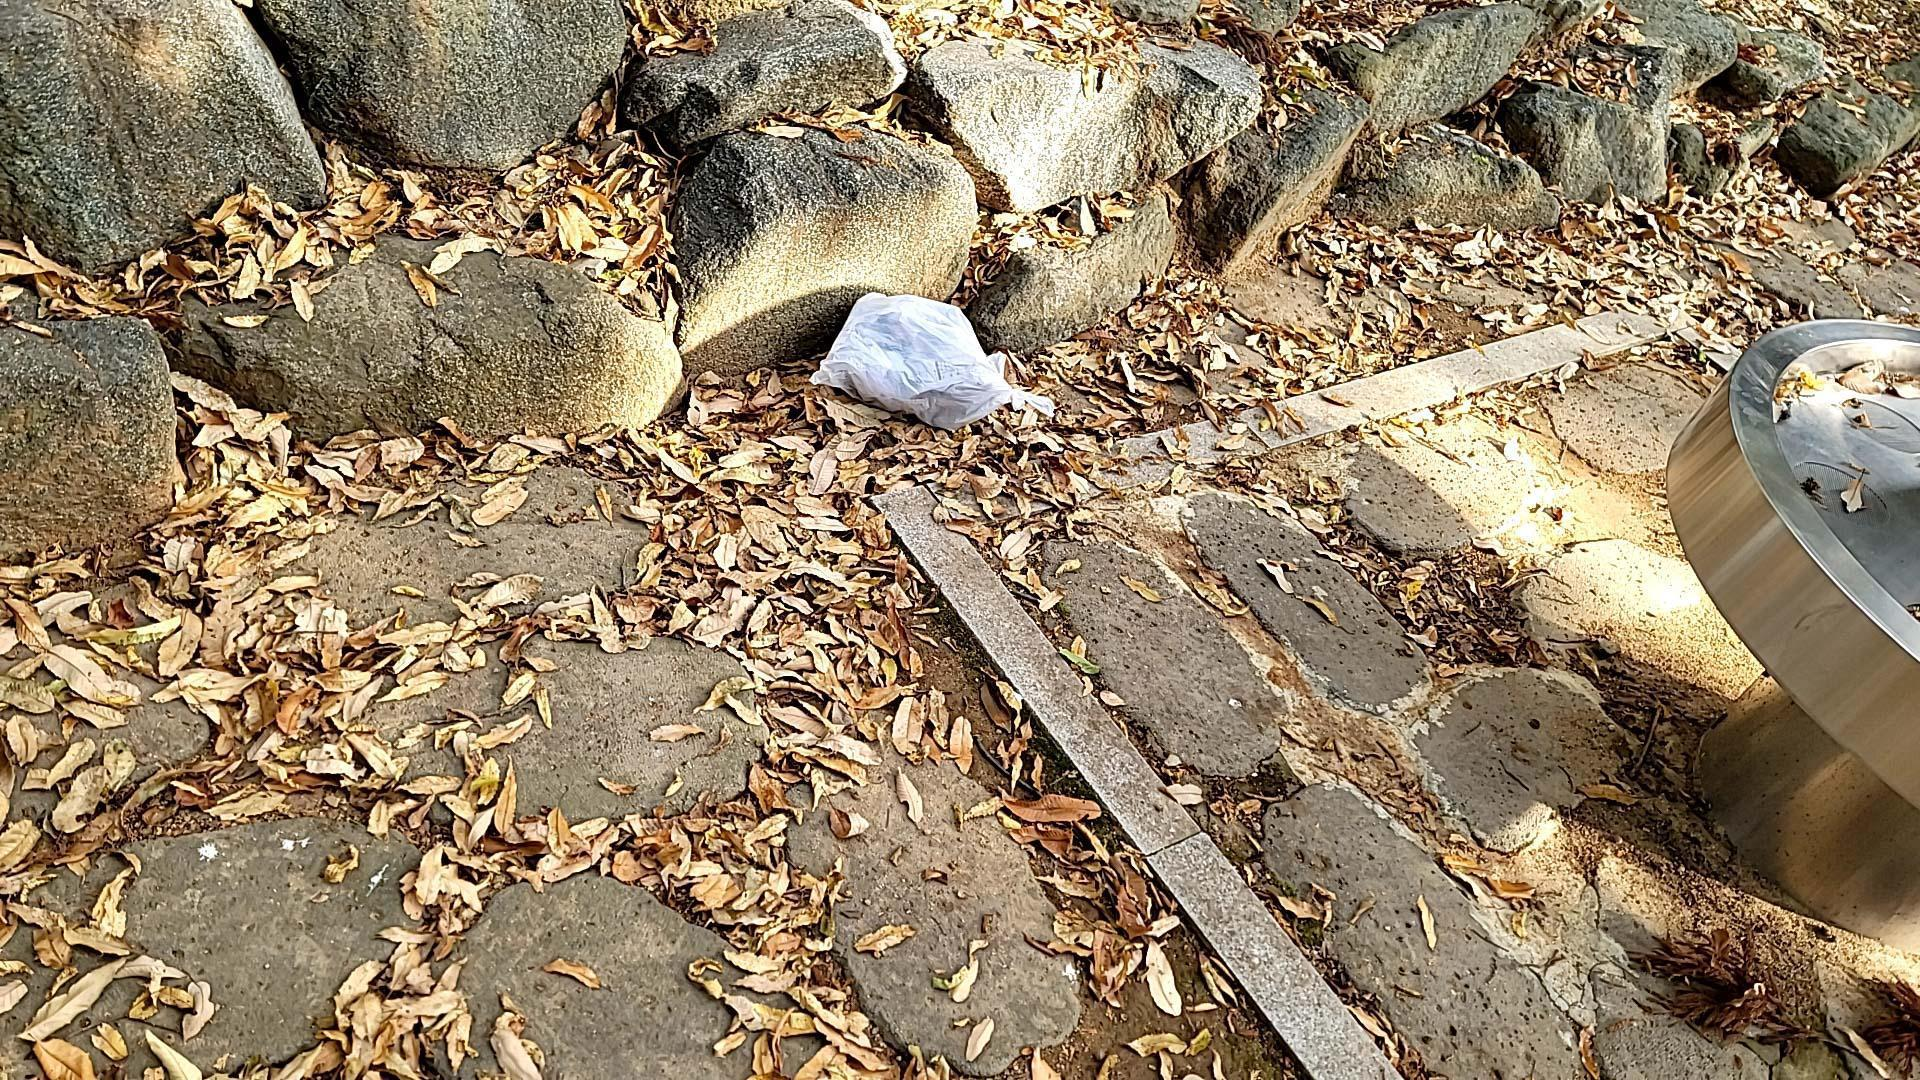white_bag: (793, 281, 1042, 442)
